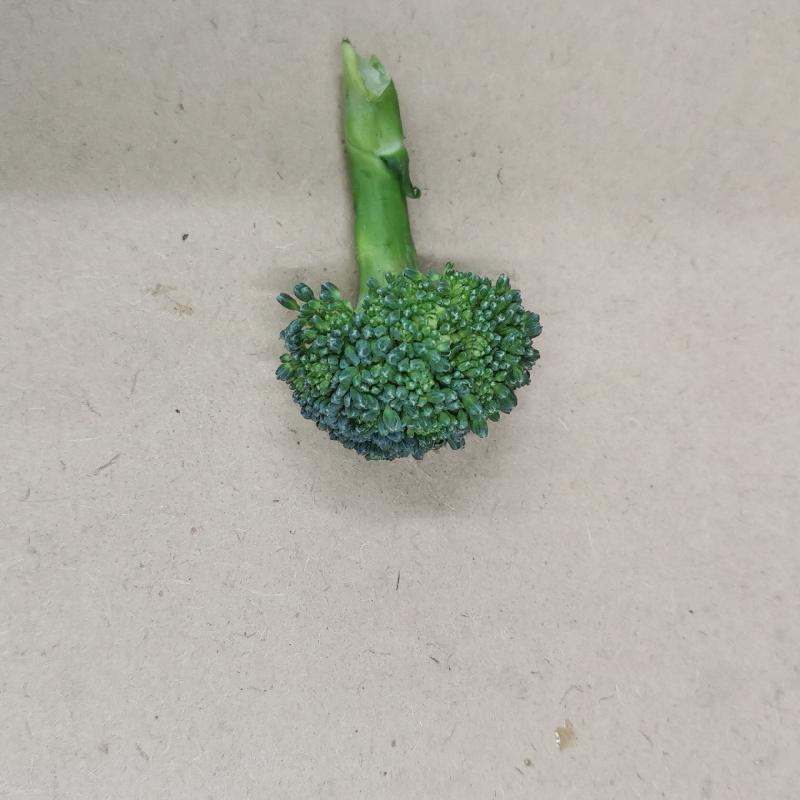broccoli: (266, 34, 545, 467)
